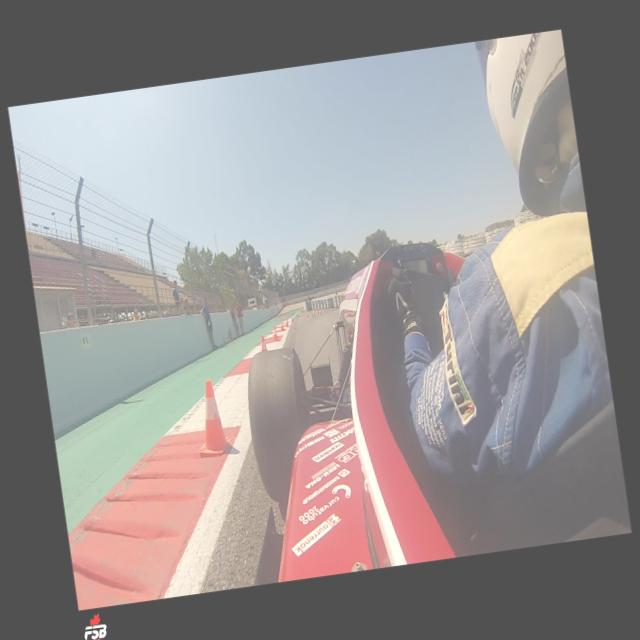orange_cone: (188, 378, 234, 458), (260, 336, 268, 352), (272, 326, 278, 341), (280, 320, 284, 331), (285, 318, 289, 327), (291, 316, 294, 323), (306, 312, 309, 318)
